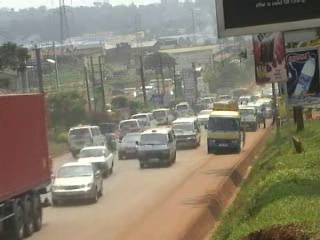Car: (50, 160, 106, 207), (117, 130, 145, 161), (113, 118, 145, 140), (194, 107, 213, 126)
Motorcycle: (104, 131, 118, 152)
